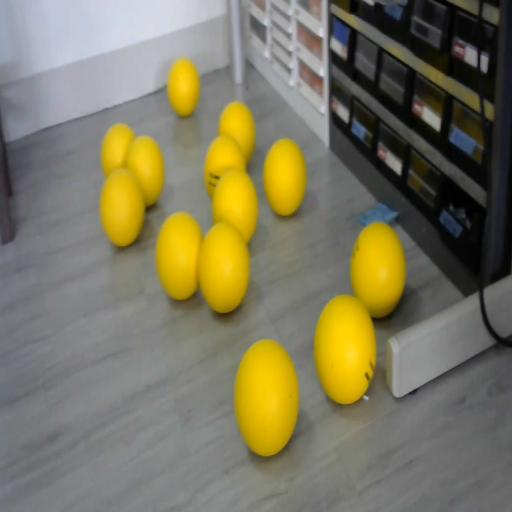FUEL: (233, 338, 300, 455), (314, 295, 377, 405), (350, 221, 407, 318), (155, 212, 203, 300), (210, 167, 260, 243), (99, 168, 145, 248), (262, 138, 308, 217), (218, 101, 256, 164), (168, 57, 200, 117), (101, 123, 136, 177)
